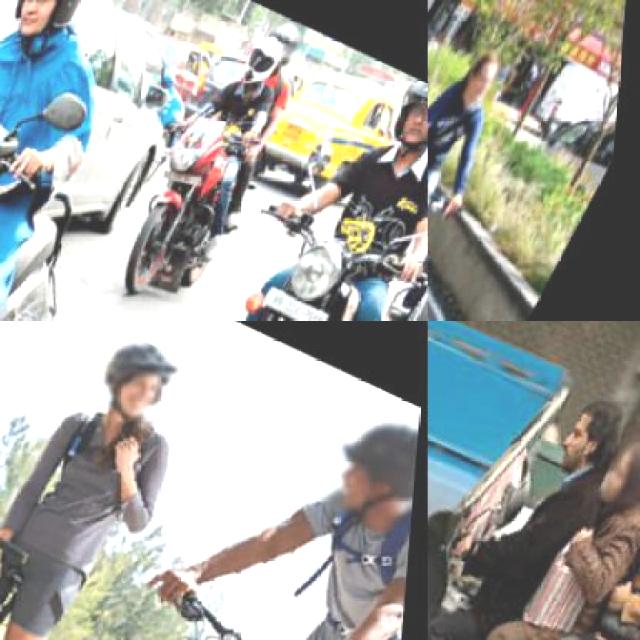With Helmet: (312, 397, 421, 545), (78, 328, 191, 430), (0, 0, 115, 61), (377, 74, 426, 168), (232, 25, 292, 90), (254, 15, 312, 73)
Without Helmet: (551, 382, 637, 482), (596, 423, 638, 520), (460, 43, 518, 109)
